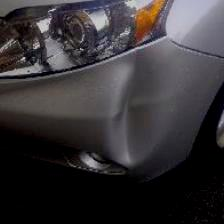bumper_dent: (74, 47, 166, 181)
